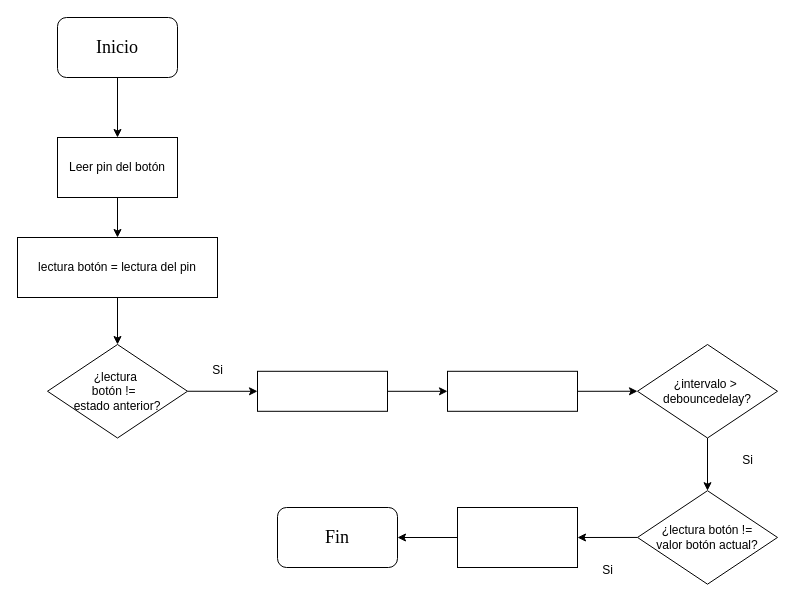
The diagram is 795 pixels wide and 603 high, and some of its shapes have lost their labels. Here are the shapes that lost their labels. From the top down, the centre of each, then its label:
the point at 322,390: registrar instante inicial
the point at 512,390: registrar instante final
the point at 517,537: valor botón actual = lectura botón
